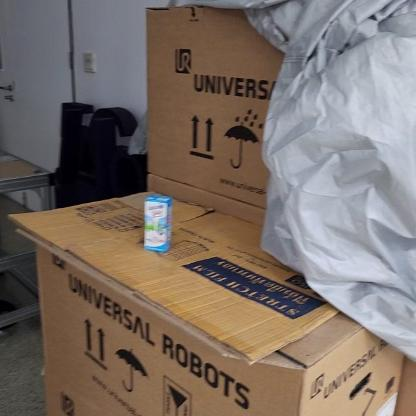Others: (139, 191, 177, 257)
